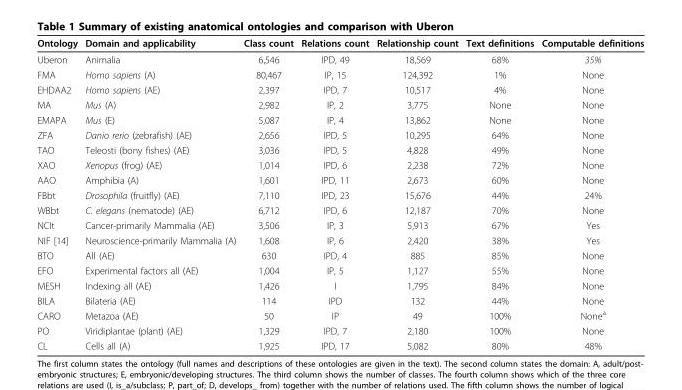table: (36, 36, 643, 351)
table column: (80, 36, 239, 351), (537, 36, 643, 351), (372, 36, 461, 351), (296, 36, 372, 351), (461, 36, 537, 351), (239, 36, 296, 351), (36, 36, 80, 351)
table column header: (36, 36, 643, 50)
table row: (36, 50, 643, 66), (36, 96, 643, 112), (36, 66, 643, 81), (36, 81, 643, 96), (36, 112, 643, 127), (36, 127, 643, 142), (36, 142, 643, 157), (36, 157, 643, 172), (36, 172, 643, 187), (36, 187, 643, 202), (36, 202, 643, 217), (36, 217, 643, 232), (36, 232, 643, 247), (36, 247, 643, 262), (36, 262, 643, 277), (36, 277, 643, 292), (36, 292, 643, 307), (36, 307, 643, 322), (36, 322, 643, 337), (36, 36, 643, 50), (36, 337, 643, 351)
